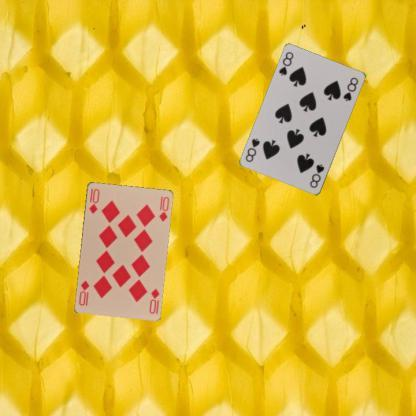10d: (86, 186, 101, 215), (146, 286, 160, 315)
8s: (307, 162, 326, 190), (276, 49, 294, 77)
